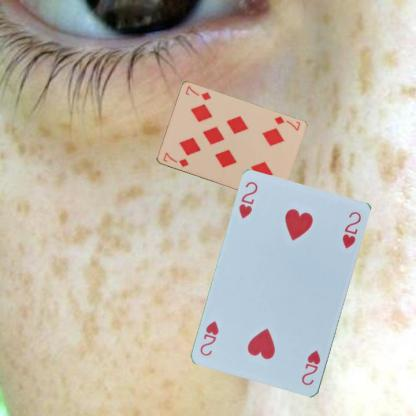2h: (236, 179, 260, 220), (299, 348, 322, 387)
7d: (160, 150, 190, 168), (272, 114, 302, 132)
